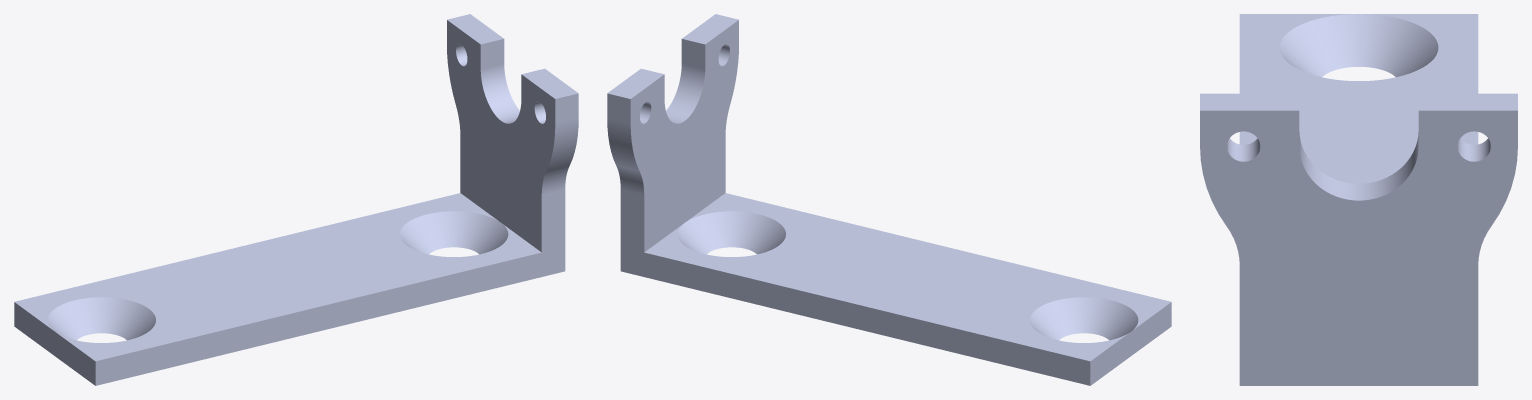
The model's file is Exc_Hopper_VibesMount.obj.
3 renders of one model, left to right at view 1: azimuth 30°, elevation 25°; view 2: azimuth 150°, elevation 25°; view 3: azimuth 270°, elevation 25°, orthographic. The views are drawn at different scales.
Visible parts, largest first — view 1: mesh4331, mesh4328, mesh4327, mesh4334, mesh4333, mesh4330, mesh4320, mesh4324, mesh4318, mesh4322, mesh4319, mesh4323 (+1 smaller); view 2: mesh4331, mesh4329, mesh4327, mesh4334, mesh4333, mesh4330, mesh4320, mesh4316, mesh4322, mesh4318, mesh4321, mesh4317 (+1 smaller); view 3: mesh4314, mesh4331, mesh4334, mesh4320, mesh4318, mesh4322, mesh4313, mesh4326.
Boxes of the visible parts, left/top/right/bottom form: mesh4331: left=14, top=193, right=541, bottom=361; mesh4328: left=95, top=189, right=565, bottom=385; mesh4327: left=447, top=20, right=555, bottom=251; mesh4334: left=47, top=297, right=155, bottom=340; mesh4333: left=400, top=211, right=508, bottom=254; mesh4330: left=14, top=302, right=95, bottom=385; mesh4320: left=480, top=63, right=519, bottom=123; mesh4324: left=546, top=118, right=578, bottom=171; mesh4318: left=447, top=14, right=503, bottom=44; mesh4322: left=522, top=68, right=578, bottom=98; mesh4319: left=480, top=39, right=504, bottom=68; mesh4323: left=555, top=93, right=578, bottom=123; mesh4331: left=644, top=193, right=1171, bottom=361; mesh4329: left=620, top=189, right=1090, bottom=385; mesh4327: left=630, top=20, right=738, bottom=251; mesh4334: left=1030, top=297, right=1138, bottom=340; mesh4333: left=677, top=211, right=785, bottom=254; mesh4330: left=1090, top=302, right=1171, bottom=385; mesh4320: left=666, top=63, right=705, bottom=123; mesh4316: left=607, top=118, right=639, bottom=171; mesh4322: left=682, top=14, right=738, bottom=44; mesh4318: left=607, top=68, right=663, bottom=98; mesh4321: left=681, top=39, right=705, bottom=68; mesh4317: left=607, top=93, right=630, bottom=123; mesh4314: left=1200, top=110, right=1517, bottom=385; mesh4331: left=1239, top=14, right=1478, bottom=183; mesh4334: left=1279, top=14, right=1438, bottom=77; mesh4320: left=1299, top=132, right=1418, bottom=200; mesh4318: left=1418, top=93, right=1517, bottom=110; mesh4322: left=1200, top=93, right=1299, bottom=110; mesh4313: left=1227, top=138, right=1260, bottom=161; mesh4326: left=1457, top=138, right=1490, bottom=161.
Size of the model in its own units: 0.1 by 0.0382 by 0.04.
